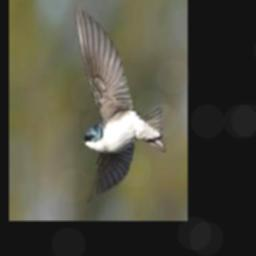Swallow: (74, 6, 165, 202)
